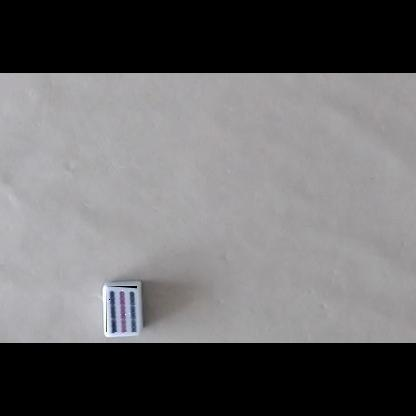9s: (106, 286, 137, 332)
